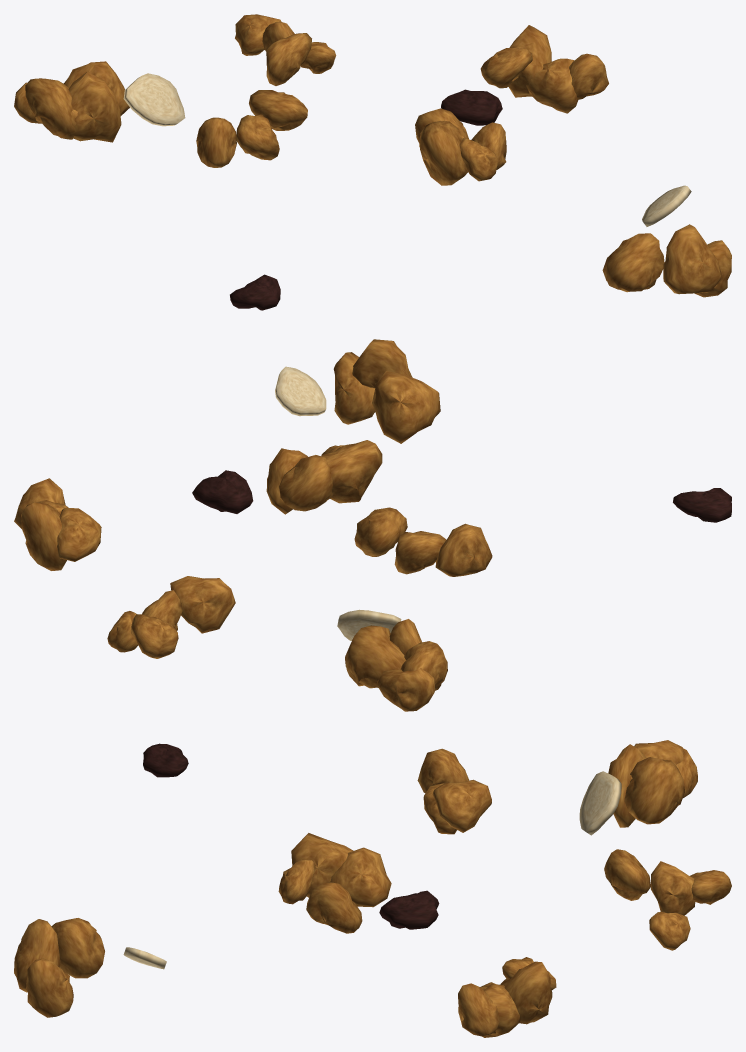
The model's file is _pedacos_granola.glb.
The picture shows the model from 3 angles, top to bottom: view 1: azimuth 30°, elevation 25°; view 2: azimuth 150°, elevation 25°; view 3: azimuth 270°, elevation 25°; orthographic projection. The views are drawn at different scales.
Parts seen in each view (by area): view 1: _pedacos_granola_2, _pedacos_granola_7, _pedacos_granola_4, _pedacos_granola_3, _pedacos_granola_1, _pedacos_granola_8, _pedacos_granola_6, _pedacos_granola_9, _pedacos_granola_5, _pedacos_granola_0; view 2: _pedacos_granola_2, _pedacos_granola_7, _pedacos_granola_3, _pedacos_granola_8, _pedacos_granola_1, _pedacos_granola_4, _pedacos_granola_0, _pedacos_granola_9, _pedacos_granola_5, _pedacos_granola_6; view 3: _pedacos_granola_3, _pedacos_granola_2, _pedacos_granola_8, _pedacos_granola_7, _pedacos_granola_4, _pedacos_granola_1, _pedacos_granola_6, _pedacos_granola_9, _pedacos_granola_5, _pedacos_granola_0.
Boxes of the visible parts, left/top/right/bottom form: _pedacos_granola_2: left=602, top=224, right=731, bottom=297; _pedacos_granola_7: left=14, top=61, right=129, bottom=142; _pedacos_granola_4: left=480, top=25, right=608, bottom=113; _pedacos_granola_3: left=415, top=108, right=506, bottom=185; _pedacos_granola_1: left=196, top=90, right=307, bottom=167; _pedacos_granola_8: left=235, top=14, right=336, bottom=85; _pedacos_granola_6: left=123, top=73, right=185, bottom=126; _pedacos_granola_9: left=441, top=89, right=502, bottom=125; _pedacos_granola_5: left=230, top=274, right=280, bottom=310; _pedacos_granola_0: left=642, top=185, right=691, bottom=226; _pedacos_granola_2: left=333, top=339, right=440, bottom=443; _pedacos_granola_7: left=345, top=619, right=447, bottom=711; _pedacos_granola_3: left=266, top=440, right=382, bottom=514; _pedacos_granola_8: left=107, top=576, right=235, bottom=658; _pedacos_granola_1: left=354, top=507, right=492, bottom=576; _pedacos_granola_4: left=14, top=478, right=101, bottom=570; _pedacos_granola_0: left=275, top=366, right=326, bottom=416; _pedacos_granola_9: left=192, top=470, right=253, bottom=513; _pedacos_granola_5: left=673, top=488, right=731, bottom=522; _pedacos_granola_6: left=337, top=609, right=401, bottom=640; _pedacos_granola_3: left=278, top=833, right=391, bottom=933; _pedacos_granola_2: left=14, top=918, right=104, bottom=1017; _pedacos_granola_8: left=604, top=849, right=731, bottom=950; _pedacos_granola_7: left=608, top=740, right=697, bottom=827; _pedacos_granola_4: left=458, top=957, right=556, bottom=1037; _pedacos_granola_1: left=417, top=748, right=491, bottom=834; _pedacos_granola_6: left=579, top=771, right=621, bottom=835; _pedacos_granola_9: left=379, top=890, right=439, bottom=929; _pedacos_granola_5: left=143, top=743, right=188, bottom=777; _pedacos_granola_0: left=123, top=947, right=166, bottom=969.
Bounding box in the file's own units: 0.6878 × 0.1422 × 0.7955.
3 materials, 3 textured.
